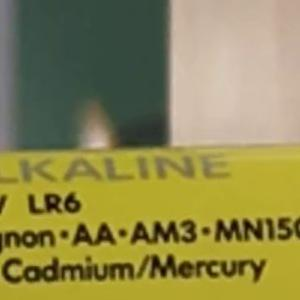keyword: (18, 182, 91, 225)
